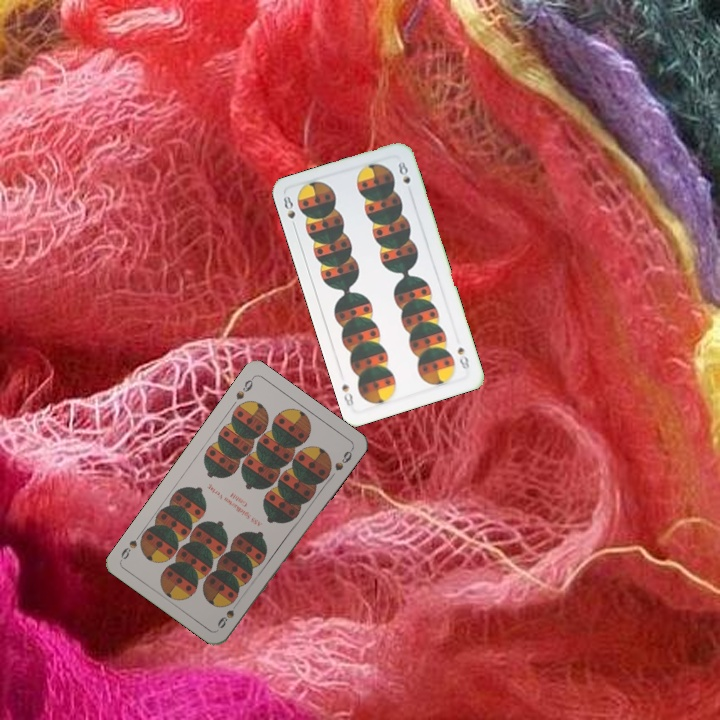S8: (279, 192, 299, 232), (453, 343, 472, 371)
S9: (213, 596, 243, 631), (232, 373, 256, 402)
